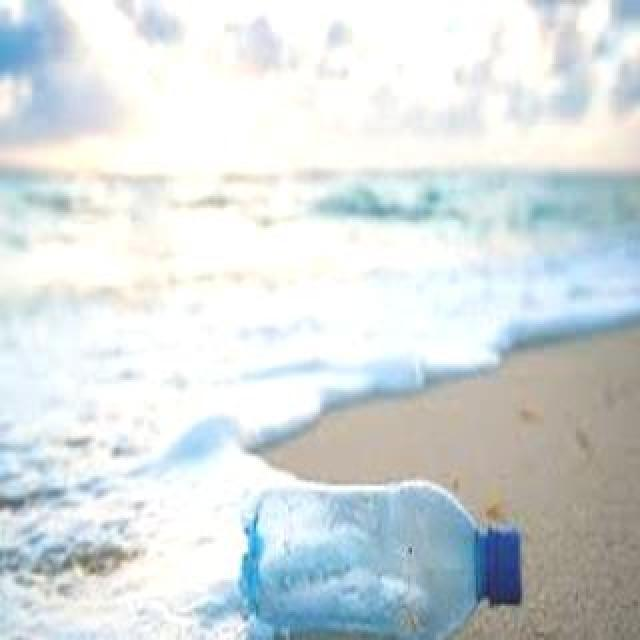Pet_Bottle: (228, 460, 526, 640)
